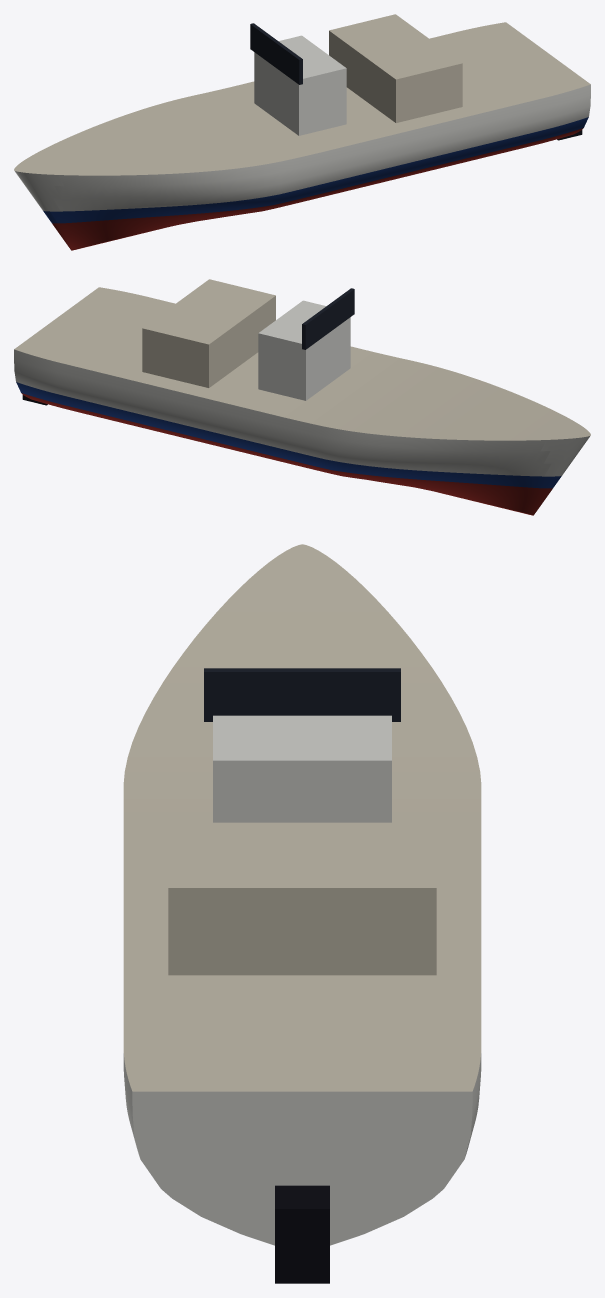
Rendered from speedboat.glb.
3 views of the same model, one above another, from view 1: azimuth 30°, elevation 25°; view 2: azimuth 150°, elevation 25°; view 3: azimuth 270°, elevation 25° (orthographic). The views are drawn at different scales.
Parts seen in each view (by area): view 1: speedboat; view 2: speedboat; view 3: speedboat.
Boxes of the visible parts, left/top/right/bottom form: speedboat: left=14, top=14, right=590, bottom=250; speedboat: left=14, top=279, right=590, bottom=515; speedboat: left=123, top=544, right=481, bottom=1283.
Bounding box in the file's own units: 9.41 × 2.58 × 2.6.
